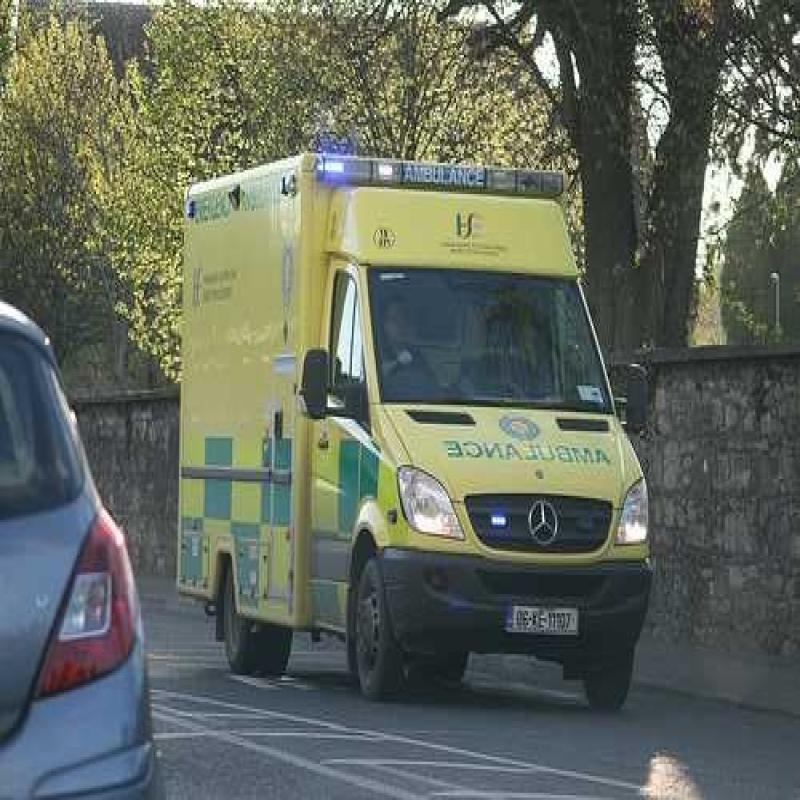AmbulanceSiren: (303, 152, 577, 213)
